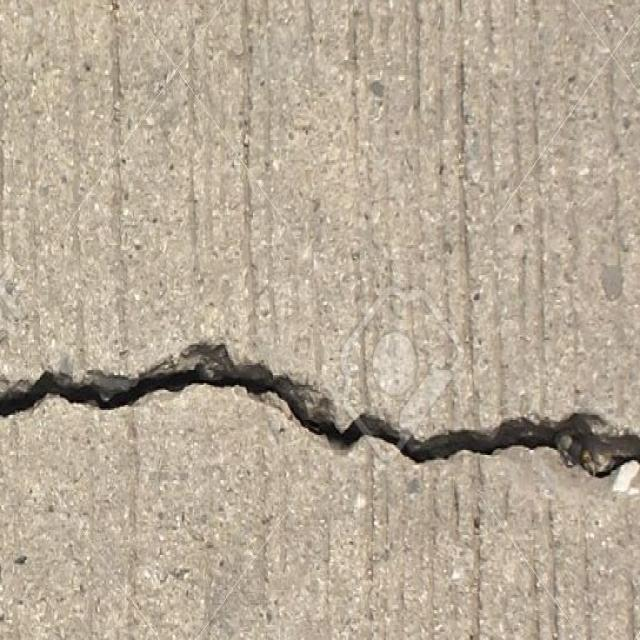Transverse: (0, 334, 640, 522)
